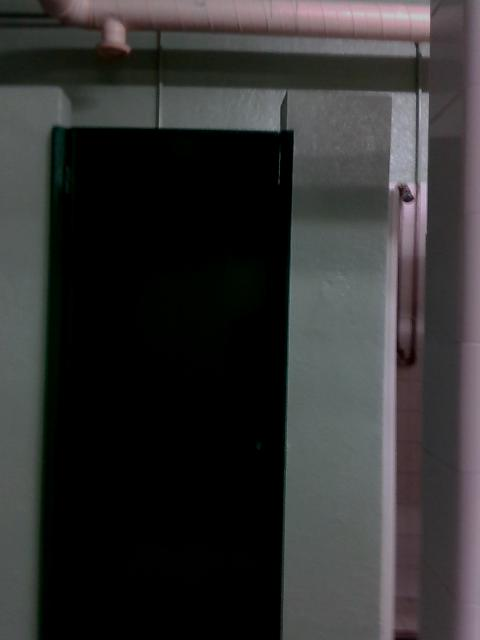closed_door: (40, 126, 292, 639)
